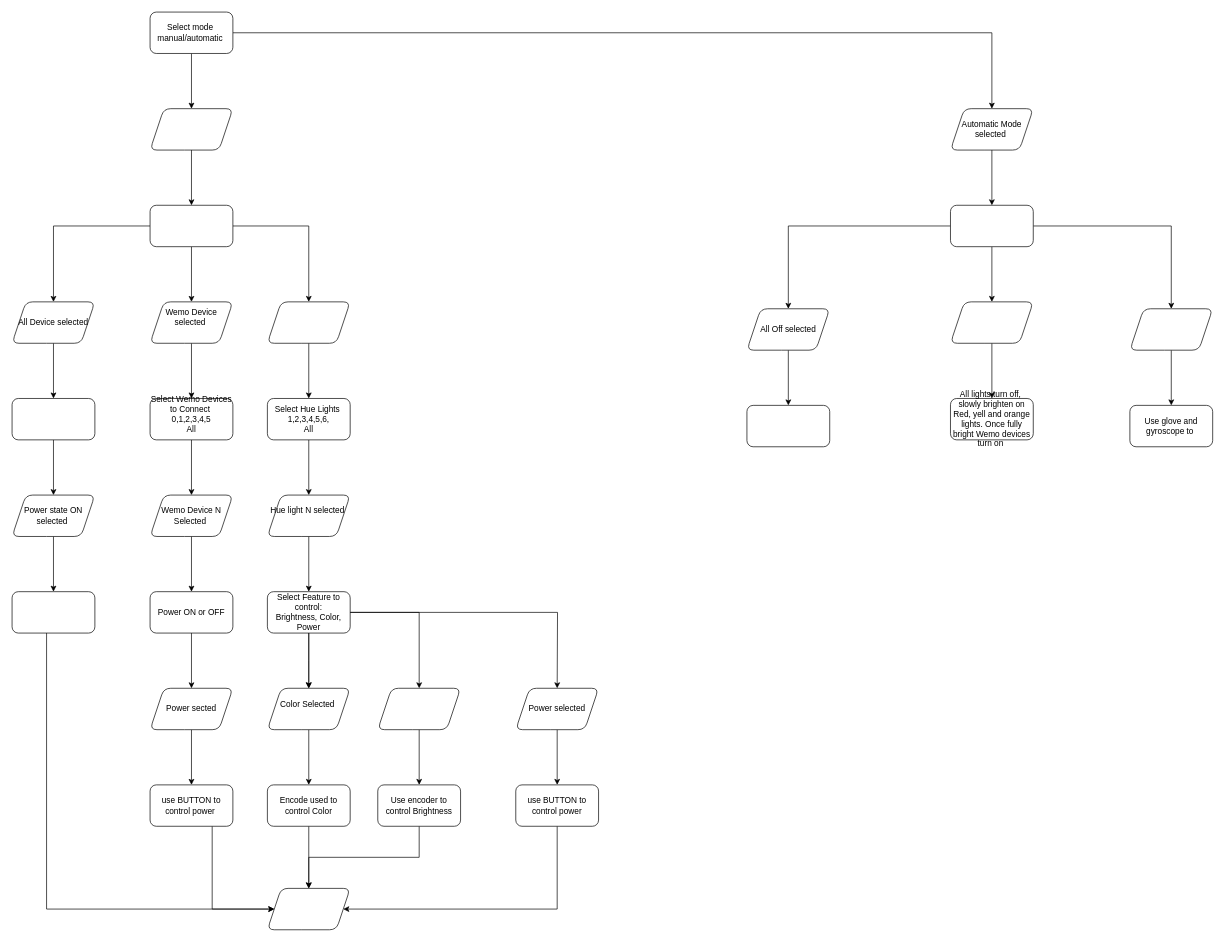
Some shapes in this 1225 by 942 pixel diagram are drawn without their labels. The shapes that lost their labels are listed below. From the top down, each one's centre as x and y in pixels, then its label:
At (x=191, y=129): "Manual mode selected".
At (x=191, y=226): "Select Devices to control 1. Wemo 2. Hue 3. All".
At (x=991, y=226): "Select Feature 1. All Off 2. Rise and shine 3. Point and shoot".
At (x=308, y=322): "Hue Lights selected".
At (x=991, y=322): "Rise and shine slected".
At (x=1171, y=329): "Point and Shoot selected".
At (x=53, y=419): "Select Power State on/off".
At (x=788, y=426): "All devices off".
At (x=53, y=612): "Use BUTTON to select Power".
At (x=419, y=709): "Brightness Selected".
At (x=308, y=909): "Print Status".
